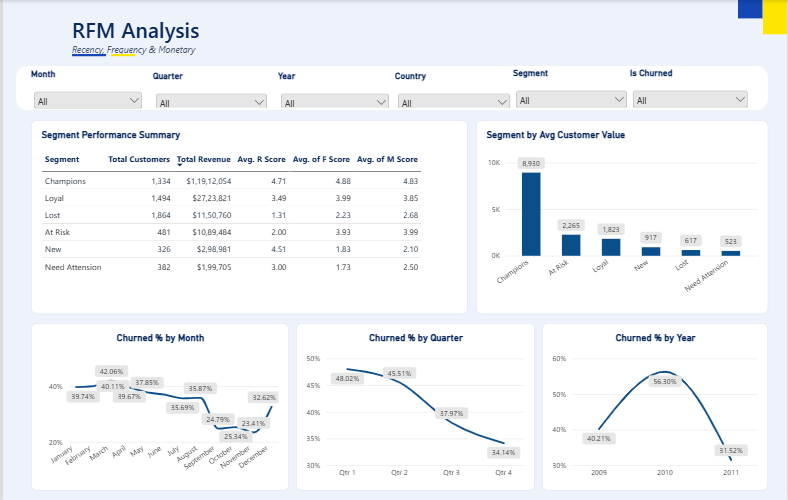

The dashboard page shown, as its layout file describes it:
{"tool":"powerbi","page":{"name":"RFM Analysis","canvas":[1280,816],"ordinal":2},"visuals":[{"type":"shape","box":[1200,0,40,30],"z":3000},{"type":"shape","box":[1240,0,40,56],"z":4000},{"type":"textbox","box":[112,24,850,68],"z":18000},{"type":"shape","box":[112,88,56,4],"z":19000},{"type":"shape","box":[176,88,40,4],"z":20000},{"type":"shape","box":[21.2,107.7,1227.3,71.8],"z":24000},{"type":"slicer","title":"Month","fields":{"Values":["Sheet1.Month"]},"box":[45.7,112.6,186,63.6],"z":25000},{"type":"slicer","title":"Quarter","fields":{"Values":["Sheet1.Quarter"]},"box":[244.8,115.9,190.9,60.4],"z":26000},{"type":"slicer","title":"Year","fields":{"Values":["Sheet1.Year"]},"box":[448.8,115.9,186,60.4],"z":27000},{"type":"slicer","title":"Country","fields":{"Values":["Sheet1.Country"]},"box":[639.7,115.9,192.6,60.4],"z":28000},{"type":"slicer","title":"Segment","fields":{"Values":["Sheet1.Segment"]},"box":[832.3,111,190.9,63.6],"z":29000},{"type":"slicer","title":"Is Churned","fields":{"Values":["Sheet1.IsChurned"]},"box":[1023.3,111,197.5,63.6],"z":30000},{"type":"tableEx","title":"Segment Performance Summary","fields":{"Values":["Sheet1.Segment","Sheet1.Total Customers","Sheet1.Total Revenue","Sheet1.Avg R Score","Sheet1.Avg F Score","Sheet1.Avg M Score"]},"box":[45.7,195.8,713.2,316.6],"z":31000},{"type":"clusteredColumnChart","title":"Segment by Avg Customer Value","fields":{"Category":["Sheet1.Segment"],"Y":["Sheet1.Avg Customer Value"]},"box":[771.9,195.8,476.5,316.6],"z":32000},{"type":"lineChart","title":"Churned % by Month","fields":{"Category":["Sheet1.Month"],"Y":["Sheet1.Churned %"]},"box":[45.7,527.1,421.1,274.2],"z":33000},{"type":"lineChart","title":"Churned % by Quarter","fields":{"Category":["Sheet1.Quarter"],"Y":["Sheet1.Churned %"]},"box":[478.2,527.1,390,274.2],"z":34000},{"type":"lineChart","title":"Churned % by Year","fields":{"Category":["Sheet1.Year"],"Y":["Sheet1.Churned %"]},"box":[879.6,527.1,368.8,274.2],"z":35000}]}

Visuals, with their boxes in screenshot pixels (x1, y1, x2, y2), scaled from the page's 1280x816 canvas onto the 788x500 screenshot:
shape: [739,0,763,18]
shape: [763,0,787,34]
textbox: [69,15,592,56]
shape: [69,54,103,56]
shape: [108,54,133,56]
shape: [13,66,769,110]
"Month" slicer: [28,69,143,108]
"Quarter" slicer: [151,71,268,108]
"Year" slicer: [276,71,391,108]
"Country" slicer: [394,71,512,108]
"Segment" slicer: [512,68,630,107]
"Is Churned" slicer: [630,68,752,107]
"Segment Performance Summary" tableEx: [28,120,467,314]
"Segment by Avg Customer Value" clusteredColumnChart: [475,120,769,314]
"Churned % by Month" lineChart: [28,323,287,491]
"Churned % by Quarter" lineChart: [294,323,534,491]
"Churned % by Year" lineChart: [542,323,769,491]
